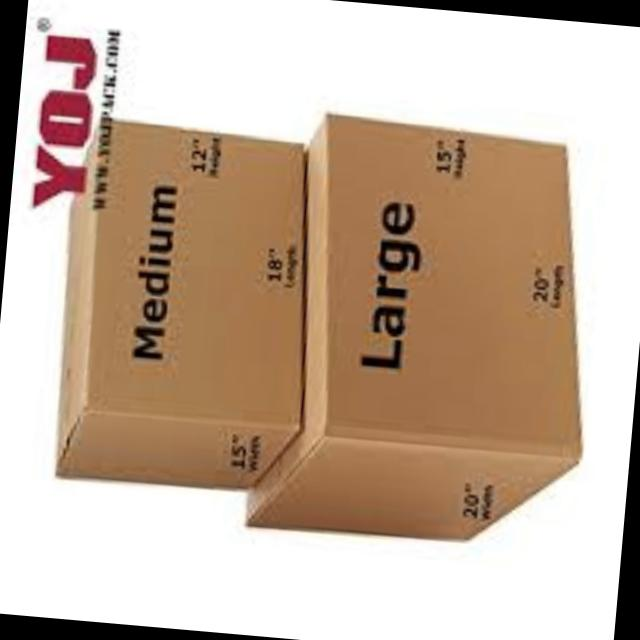cardboard paper: (242, 119, 573, 542), (51, 122, 299, 492)
